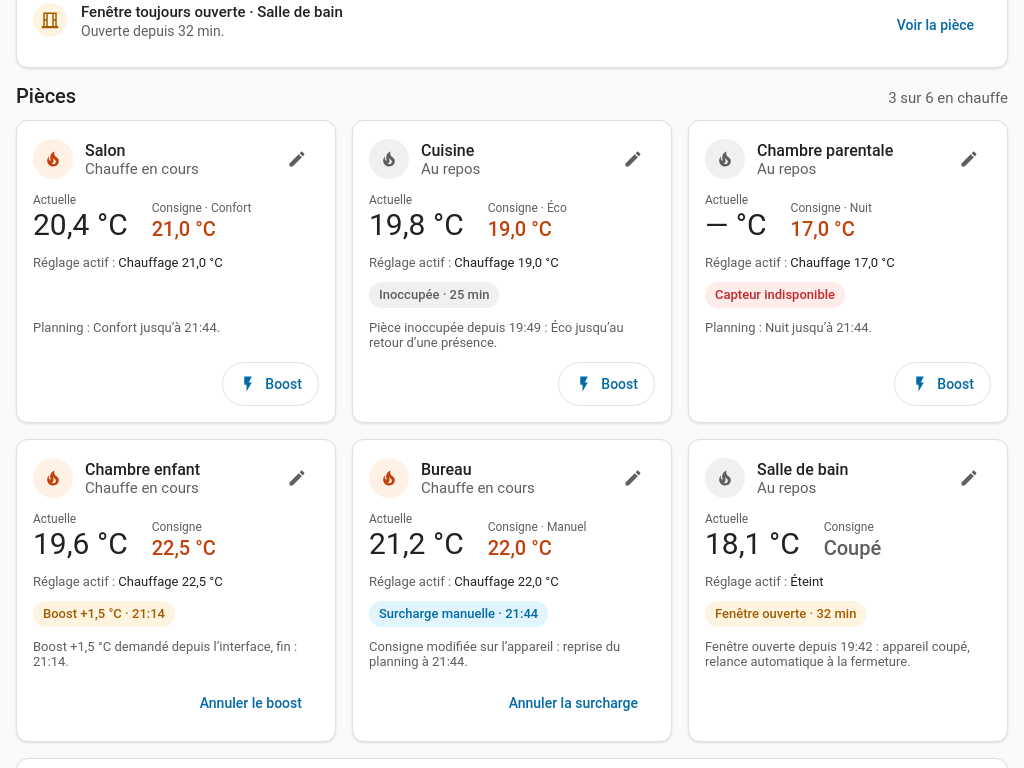
Test case: OverviewPage › shows a toast when the engine refuses the boost
(page scrolled)
What coordinates should you click on to do the following:
click the button with test id "boost-open" below "Planning : Confort jusqu’à 21:44."
I would click on:
 (271, 384)
Its box is top-left (222, 362), bottom-right (319, 406).
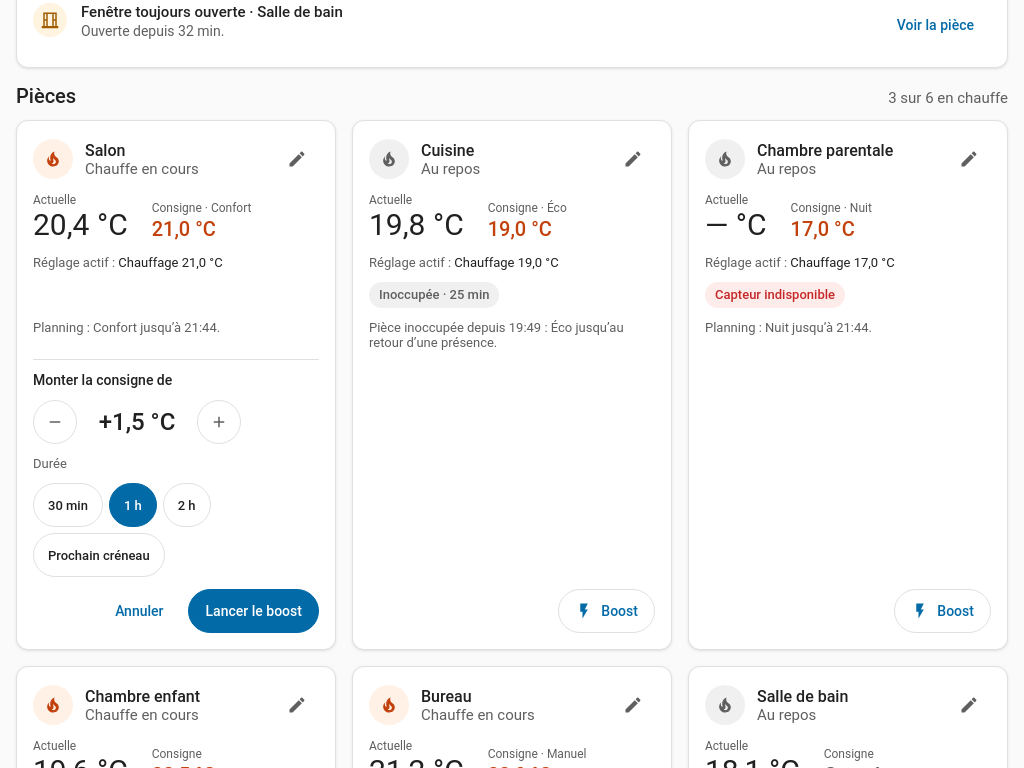
What coordinates should you click on to do the following:
click the button with test id "boost-confirm"
I would click on:
 (254, 611)
Its box is top-left (188, 589), bottom-right (319, 633).
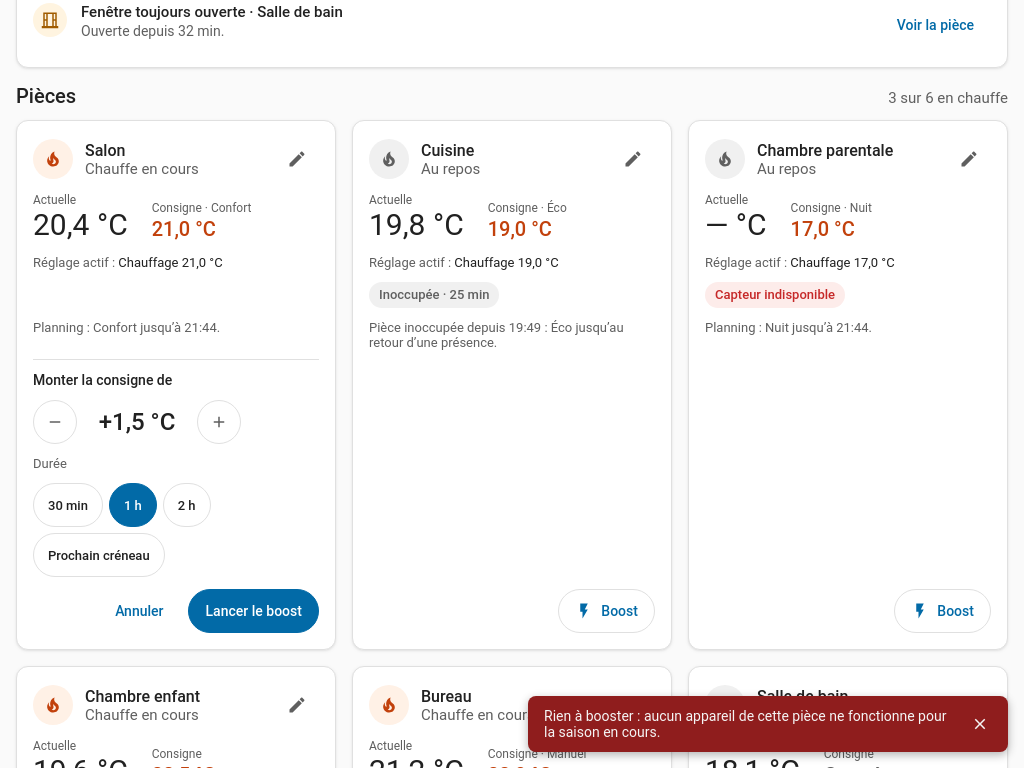
Result: the element with class "toasts" shows "Rien à booster" at top-left (544, 708), bottom-right (946, 740)
